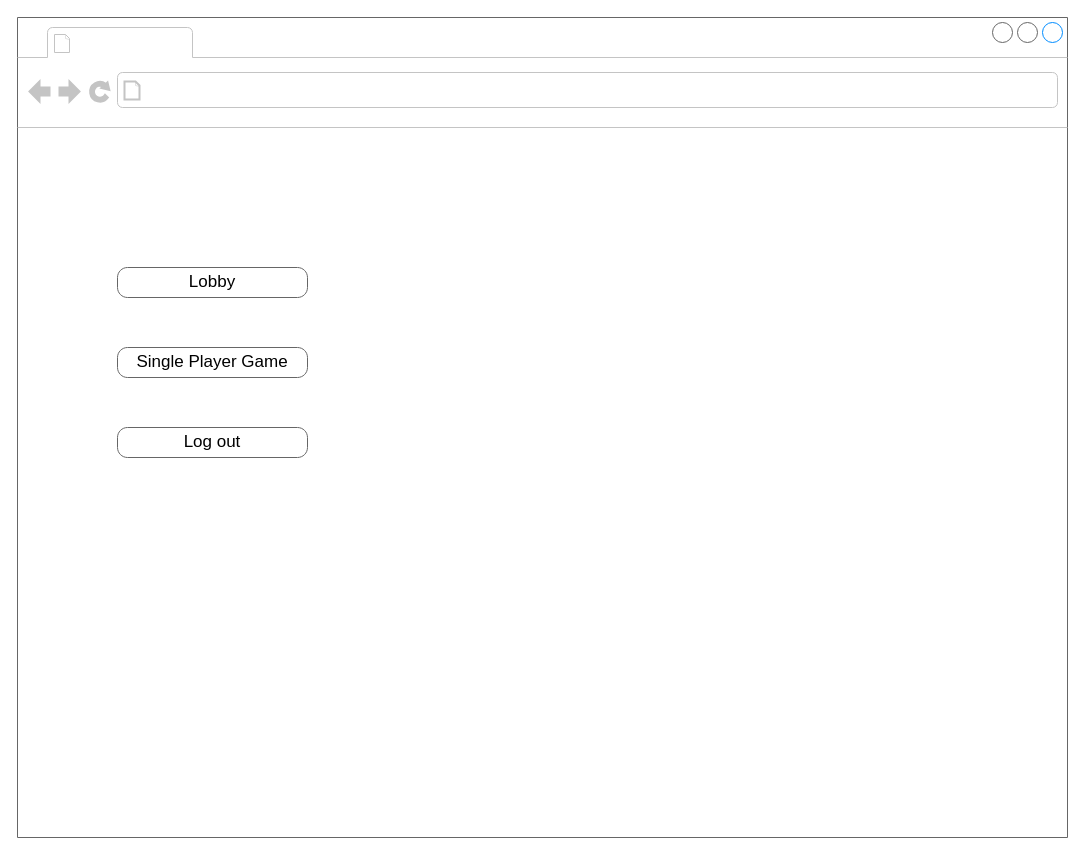
Some shapes in this 1085 by 855 pixel diagram are drawn without their labels. Here are the shapes that lost their labels. From the top down, the centre of each, then its label:
At [132,42]: "Home".
At [372,90]: "http://localhost/Assignment/page/index.php".
